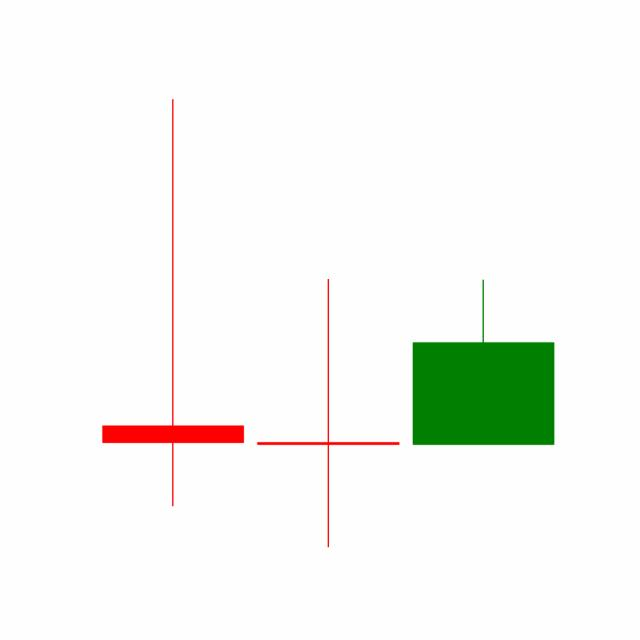Spinning Top: (249, 275, 406, 550)
